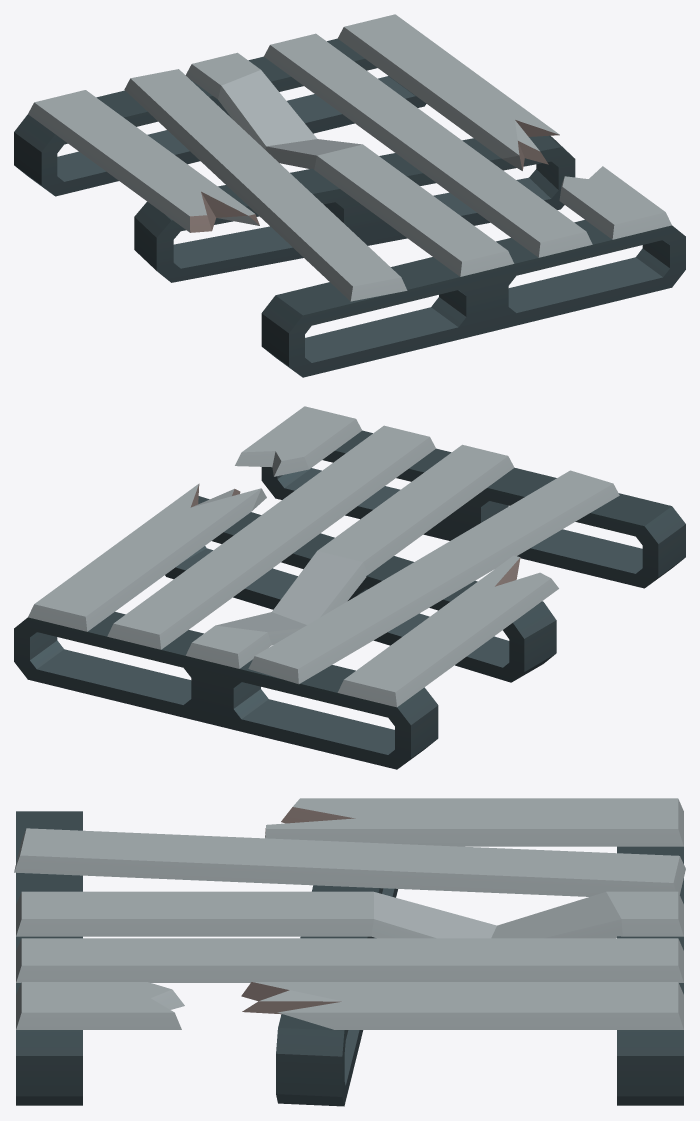
File: Pallete_02.fbx
The picture shows the model from 3 angles, top to bottom: view 1: azimuth 30°, elevation 25°; view 2: azimuth 150°, elevation 25°; view 3: azimuth 270°, elevation 25°; orthographic projection. The views are drawn at different scales.
Visible parts, largest first — view 1: Pallete_02; view 2: Pallete_02; view 3: Pallete_02.
Boxes of the visible parts, x1,y1,x2,y2 form: Pallete_02: (14, 14, 685, 377); Pallete_02: (14, 406, 685, 769); Pallete_02: (14, 798, 685, 1106).
Size of the model in its own units: 101 by 121 by 18.
